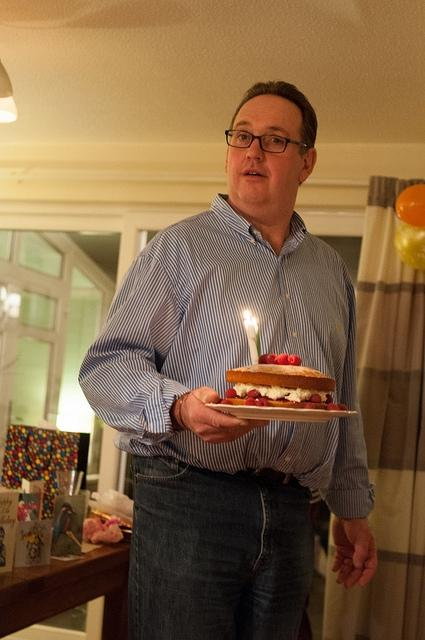raspberry: (288, 354, 302, 366), (247, 389, 262, 399), (266, 354, 279, 365), (256, 398, 271, 407), (226, 388, 237, 399), (277, 354, 289, 364), (258, 354, 269, 364), (310, 394, 322, 403), (327, 403, 340, 411), (324, 394, 334, 404), (245, 397, 255, 406), (220, 399, 233, 405), (304, 403, 316, 409), (338, 404, 346, 411)
